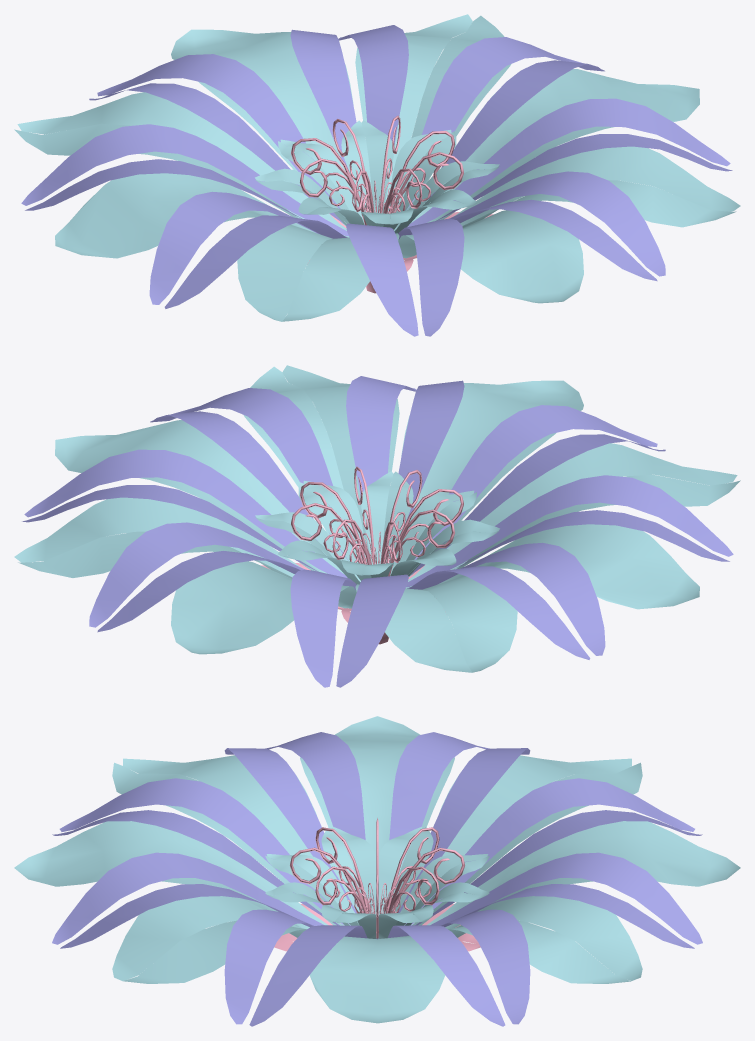
File: flower_large.fbx
The picture shows the model from 3 angles, top to bottom: view 1: azimuth 30°, elevation 25°; view 2: azimuth 150°, elevation 25°; view 3: azimuth 270°, elevation 25°; orthographic projection. The views are drawn at different scales.
Parts seen in each view (by area): view 1: Ground_Flower_Large; view 2: Ground_Flower_Large; view 3: Ground_Flower_Large.
Part boxes in pixels (box(x1,y1,x2,y2)): Ground_Flower_Large: box(14, 14, 740, 336); Ground_Flower_Large: box(14, 365, 740, 687); Ground_Flower_Large: box(14, 716, 740, 1026).
Size of the model in its own units: 1050 by 237 by 1050.
